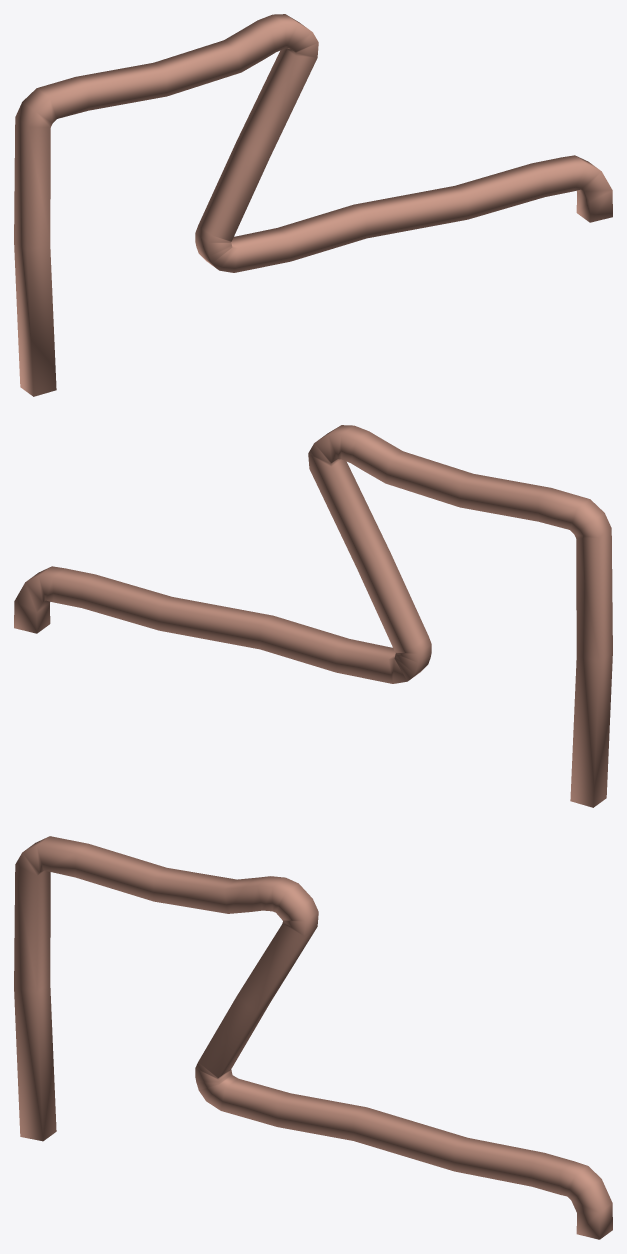
Rendered from yk_katto_lvi_putki2.fbx.
3 views of the same model, one above another, from view 1: azimuth 30°, elevation 25°; view 2: azimuth 150°, elevation 25°; view 3: azimuth 330°, elevation 25° (orthographic).
Parts seen in each view (by area): view 1: Cube.012; view 2: Cube.012; view 3: Cube.012.
Part boxes in pixels (<box>): Cube.012: <box>14,14,612,396</box>; Cube.012: <box>14,425,612,807</box>; Cube.012: <box>14,836,612,1239</box>.
Bounding box in the file's own units: 150 × 75.98 × 5.88.
